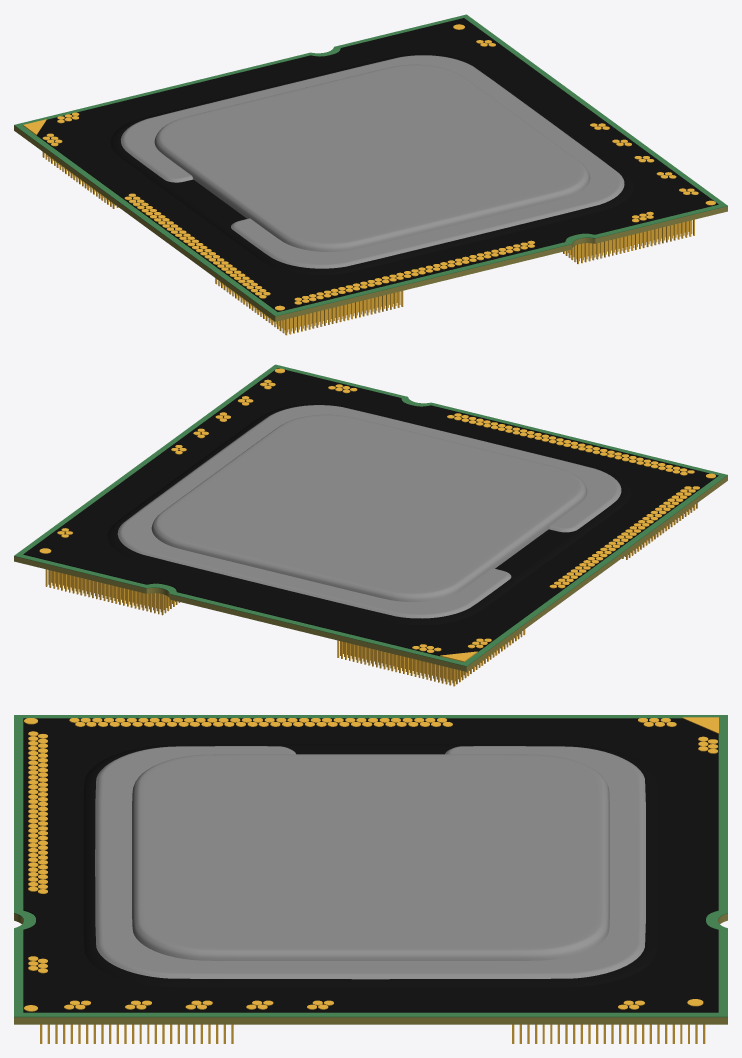
3 views of the same model, one above another, from view 1: azimuth 30°, elevation 25°; view 2: azimuth 150°, elevation 25°; view 3: azimuth 270°, elevation 25° (orthographic). The views are drawn at different scales.
Parts seen in each view (by area): view 1: Rectangle010, Rectangle004, Rectangle009, Rectangle006, Rectangle002, Rectangle008, Rectangle003, Circle013, Circle015; view 2: Rectangle010, Rectangle004, Rectangle009, Rectangle006, Rectangle002, Rectangle008, Rectangle003, Circle013, Circle015; view 3: Rectangle010, Rectangle004, Rectangle009, Rectangle006, Rectangle002, Rectangle003, Rectangle008, Circle013, Circle015.
Boxes of the visible parts, left/top/right/bottom form: Rectangle010: left=154, top=64, right=590, bottom=251; Rectangle004: left=36, top=18, right=718, bottom=311; Rectangle009: left=120, top=55, right=624, bottom=268; Rectangle006: left=110, top=53, right=634, bottom=274; Rectangle002: left=14, top=14, right=727, bottom=316; Rectangle008: left=42, top=152, right=694, bottom=335; Rectangle003: left=14, top=125, right=727, bottom=321; Circle013: left=294, top=240, right=534, bottom=304; Circle015: left=124, top=193, right=270, bottom=298; Rectangle010: left=151, top=414, right=587, bottom=601; Rectangle004: left=23, top=368, right=718, bottom=656; Rectangle009: left=117, top=405, right=621, bottom=618; Rectangle006: left=107, top=403, right=631, bottom=625; Rectangle002: left=14, top=364, right=727, bottom=666; Rectangle008: left=45, top=503, right=697, bottom=686; Rectangle003: left=14, top=475, right=727, bottom=671; Circle013: left=447, top=413, right=694, bottom=475; Circle015: left=549, top=486, right=699, bottom=588; Rectangle010: left=132, top=754, right=609, bottom=960; Rectangle004: left=23, top=718, right=718, bottom=1012; Rectangle009: left=95, top=746, right=645, bottom=979; Rectangle006: left=83, top=744, right=658, bottom=987; Rectangle002: left=14, top=715, right=727, bottom=1017; Rectangle003: left=14, top=913, right=727, bottom=1024; Rectangle008: left=40, top=1024, right=705, bottom=1043; Circle013: left=28, top=731, right=47, bottom=893; Circle015: left=69, top=718, right=452, bottom=726.
Size of the model in its own units: 443 by 39.35 by 443.
